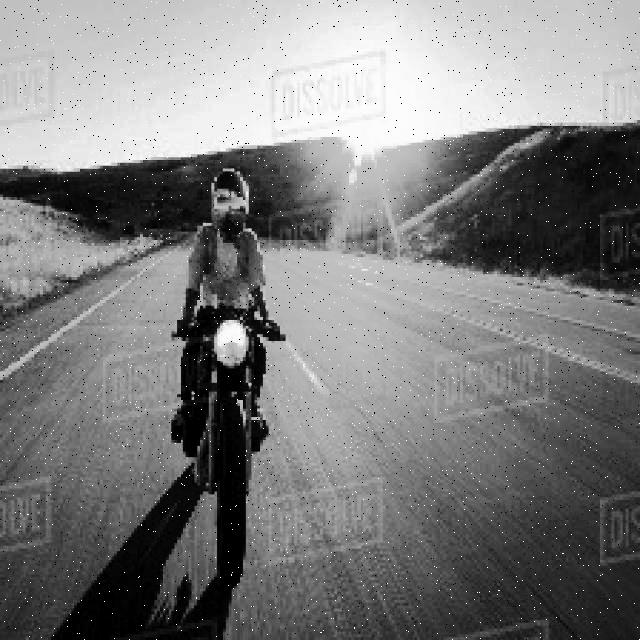Bike: (184, 288, 278, 585)
